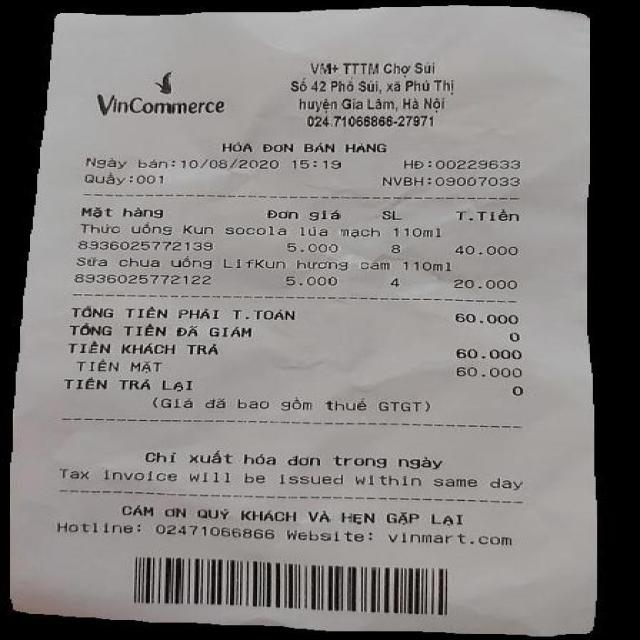Date: (180, 159, 284, 172)
Store_Name: (89, 93, 234, 121)
amount_number: (449, 311, 523, 326)
label_total: (68, 304, 299, 323)
